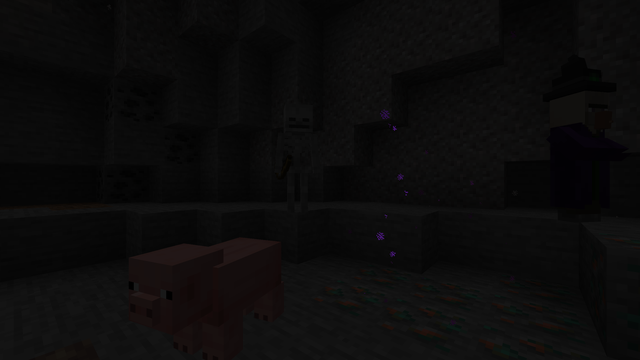cochons: (169, 234, 290, 352)
sorcieres: (551, 81, 612, 225)
squelettes: (275, 101, 319, 214)
